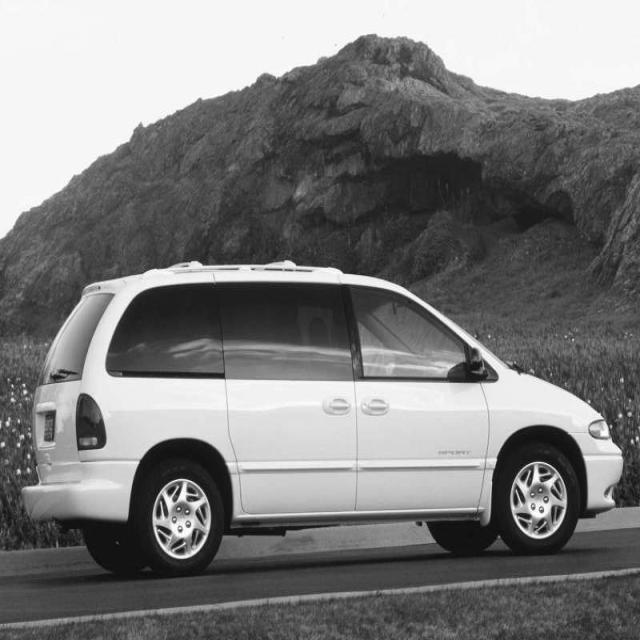car: (21, 258, 624, 577)
plat_license: (36, 409, 58, 445)
